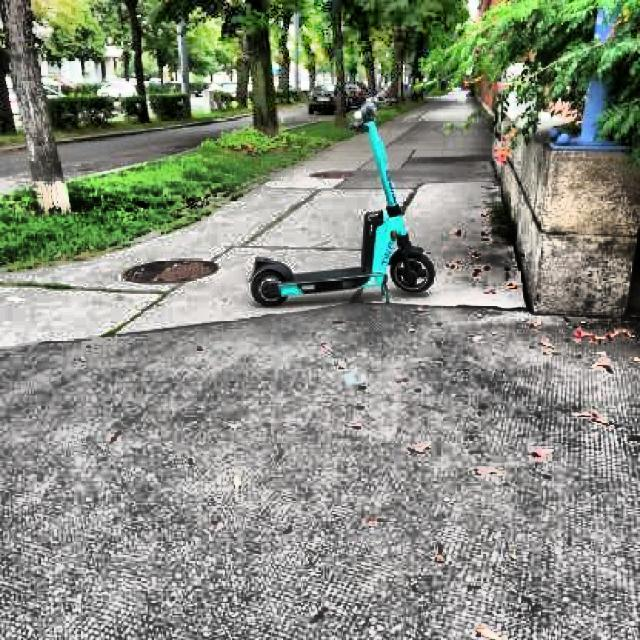bike: (350, 100, 378, 133)
car: (308, 83, 364, 115)
